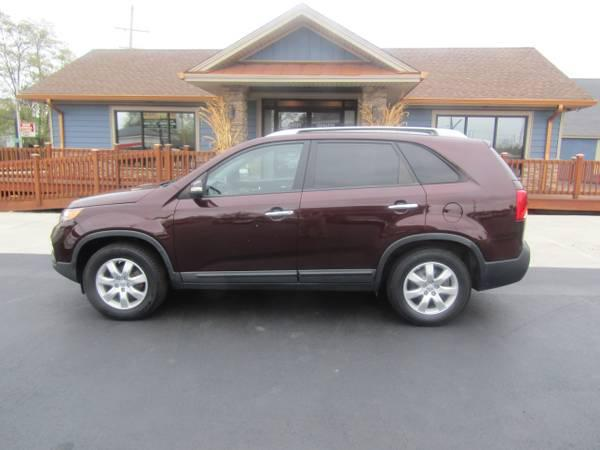Front_Bumper: (51, 221, 85, 285)
Front_Fender: (73, 187, 183, 288)
Front_Left_Door: (175, 197, 303, 292)
Front_Left_Window: (179, 143, 315, 202)
Hood: (69, 183, 161, 209)
Left_Headlight: (58, 209, 82, 223)
Left_Taillight: (515, 190, 528, 221)
Rear_Bumper: (465, 230, 531, 291)
Rear_Fender: (394, 141, 526, 241)
Rear_Left_Door: (298, 190, 427, 298)
Rear_Left_Window: (308, 142, 428, 195)
Roof: (170, 127, 521, 201)
Wheel: (386, 246, 474, 326), (80, 245, 166, 321)
